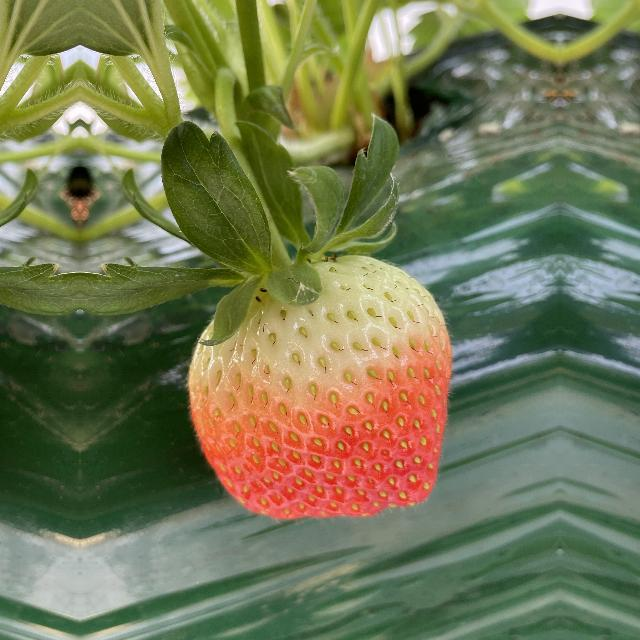Health_75: (179, 247, 463, 528)
